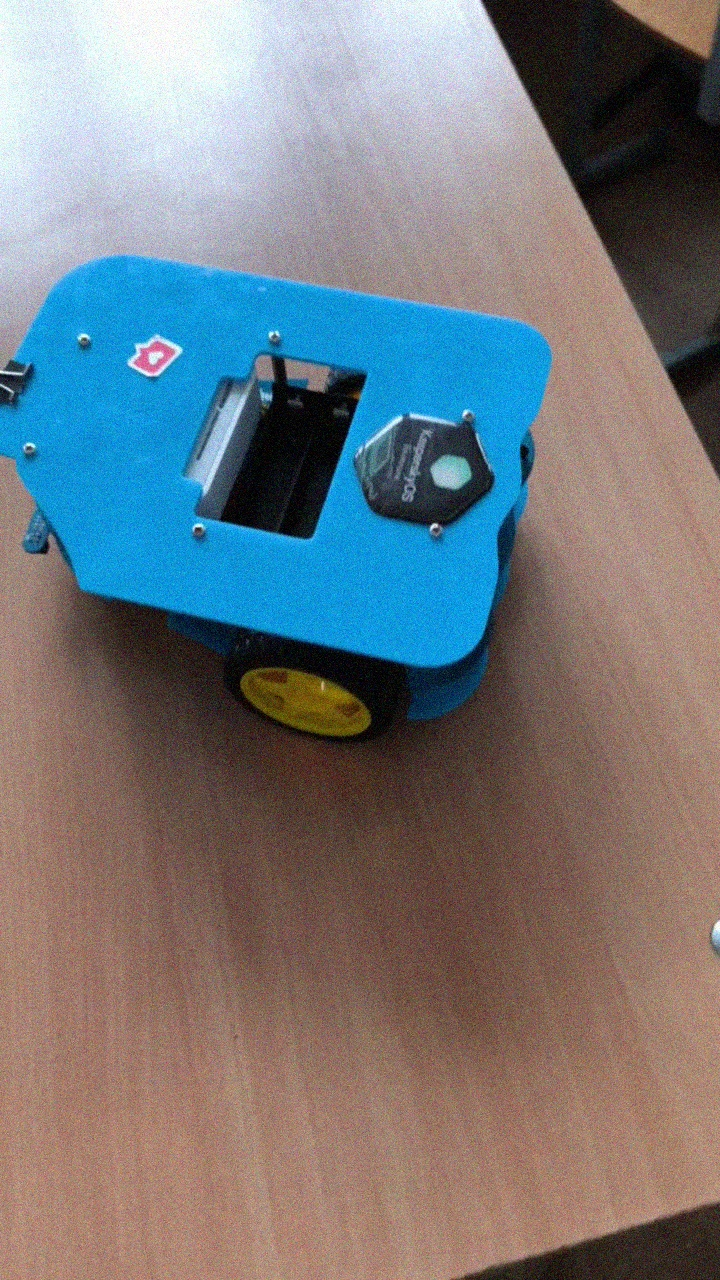robot: (1, 253, 554, 743)
